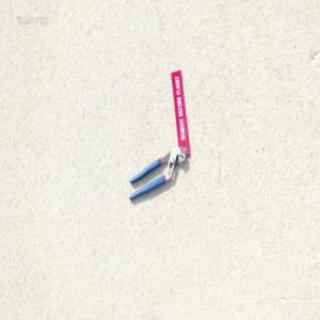LuggageTagtrack_idkeyframe: (170, 68, 190, 156)
Pliertrack_idkeyframe: (127, 143, 185, 201)
